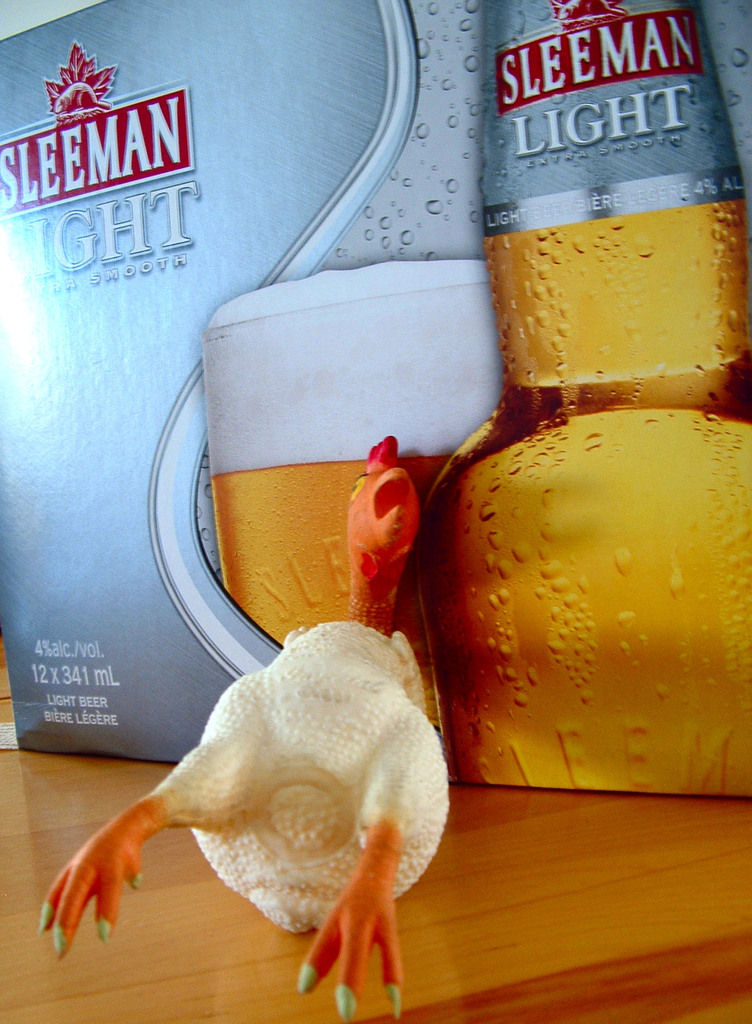Beer: (189, 254, 553, 641), (442, 0, 751, 426)
